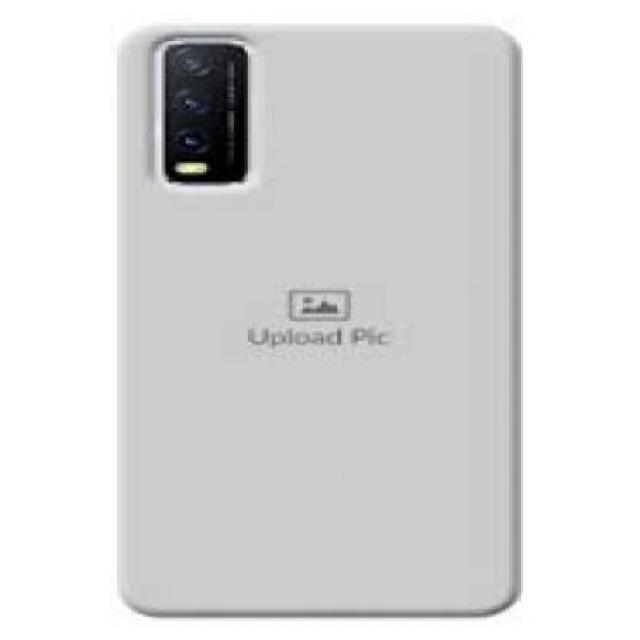phone: (117, 26, 520, 617)
